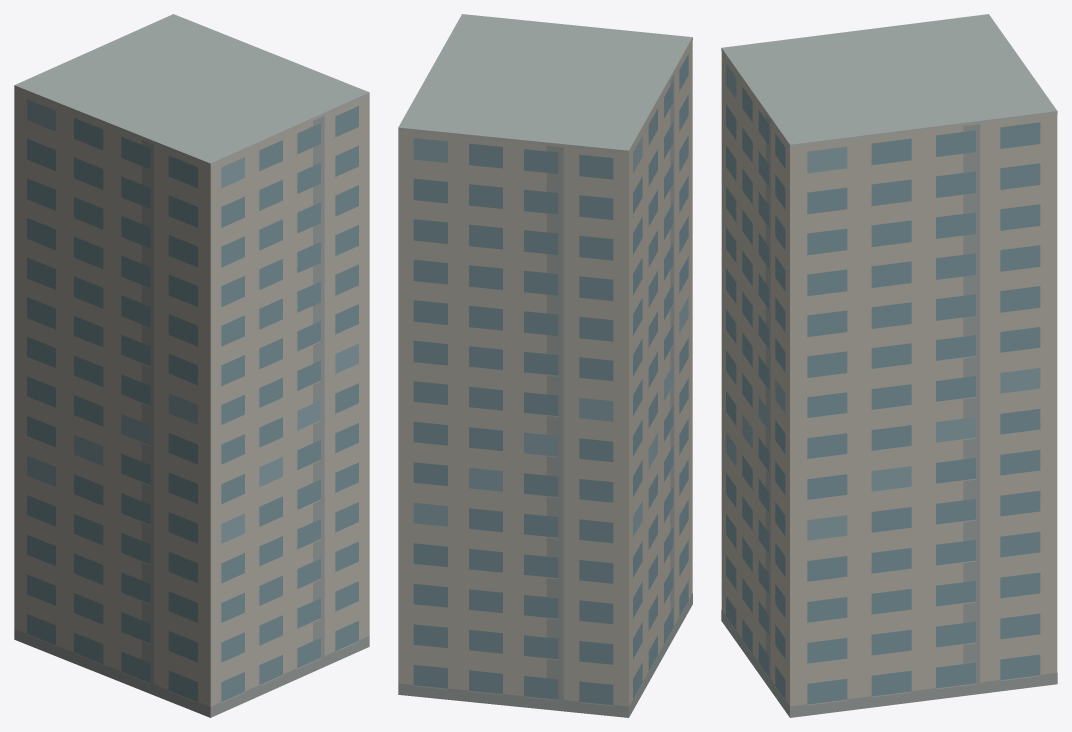
File: residential-15e76b82-c718-453b-bfd6-e837a6c4b6f3.glb
3 renders of one model, left to right at view 1: azimuth 30°, elevation 25°; view 2: azimuth 150°, elevation 25°; view 3: azimuth 270°, elevation 25°, orthographic. The views are drawn at different scales.
Visible parts, largest first — view 1: residential-15e76b82-c718-453b-bfd6-e837a6c4b6f3.tmp; view 2: residential-15e76b82-c718-453b-bfd6-e837a6c4b6f3.tmp; view 3: residential-15e76b82-c718-453b-bfd6-e837a6c4b6f3.tmp.
Boxes of the visible parts, bbox=[...] form: residential-15e76b82-c718-453b-bfd6-e837a6c4b6f3.tmp: bbox=[14, 14, 369, 717]; residential-15e76b82-c718-453b-bfd6-e837a6c4b6f3.tmp: bbox=[398, 14, 692, 717]; residential-15e76b82-c718-453b-bfd6-e837a6c4b6f3.tmp: bbox=[721, 14, 1057, 717].
Size of the model in its own units: 21.05 by 43 by 22.85.
